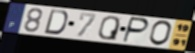7: (76, 12, 98, 38)
8: (23, 8, 43, 34)
D: (42, 9, 69, 36)
O: (148, 20, 173, 47)
P: (121, 16, 150, 44)
Q: (97, 15, 121, 42)
